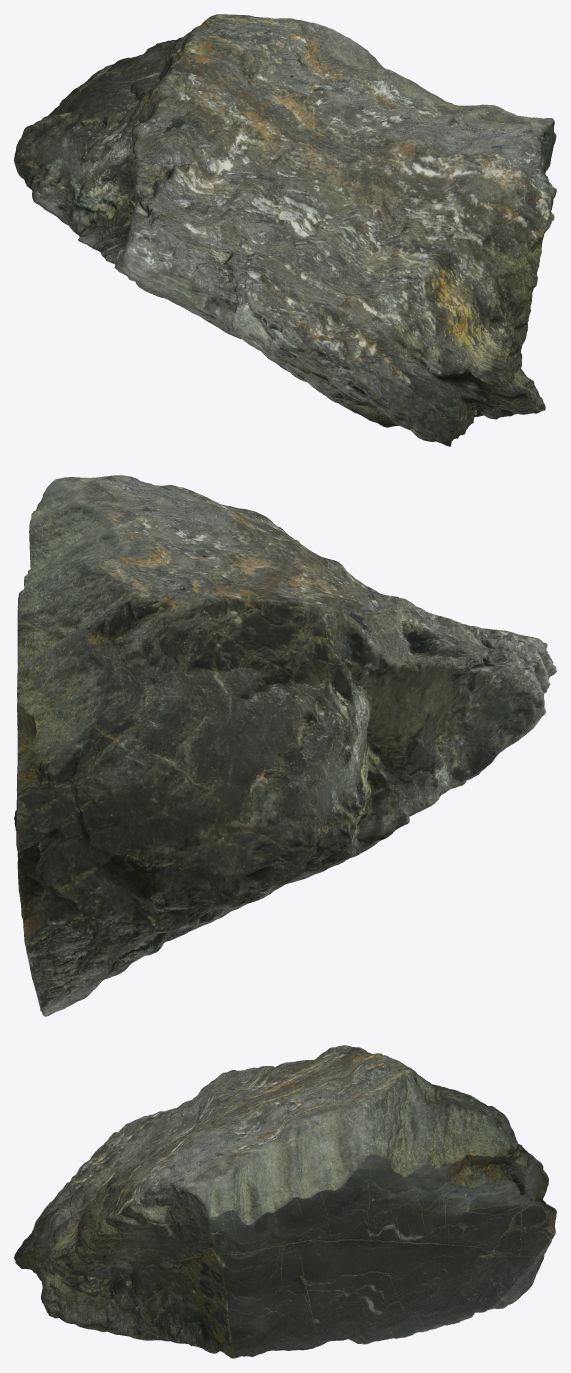
The model's file is sample-02-v2.glb.
3 renders of one model, top to bottom at view 1: azimuth 30°, elevation 25°; view 2: azimuth 150°, elevation 25°; view 3: azimuth 270°, elevation 25°, orthographic. The views are drawn at different scales.
Visible parts, largest first — view 1: Model_material0_0, Model_material5_0, Model_material1_0, Model_material2_0, Model_material3_0, Model_material4_0; view 2: Model_material2_0, Model_material4_0, Model_material3_0, Model_material0_0, Model_material5_0, Model_material1_0; view 3: Model_material3_0, Model_material4_0, Model_material5_0, Model_material0_0, Model_material2_0, Model_material1_0.
Boxes of the visible parts, left/top/right/bottom form: Model_material0_0: left=117, top=21, right=541, bottom=324; Model_material5_0: left=35, top=98, right=556, bottom=445; Model_material1_0: left=123, top=229, right=382, bottom=425; Model_material2_0: left=14, top=37, right=514, bottom=428; Model_material3_0: left=102, top=18, right=556, bottom=427; Model_material4_0: left=19, top=14, right=556, bottom=446; Model_material2_0: left=15, top=507, right=544, bottom=978; Model_material4_0: left=16, top=570, right=317, bottom=1016; Model_material3_0: left=14, top=477, right=295, bottom=1015; Model_material0_0: left=148, top=499, right=518, bottom=733; Model_material5_0: left=16, top=475, right=366, bottom=884; Model_material1_0: left=217, top=630, right=556, bottom=872; Model_material3_0: left=77, top=1070, right=556, bottom=1318; Model_material4_0: left=14, top=1066, right=536, bottom=1358; Model_material5_0: left=14, top=1144, right=543, bottom=1356; Model_material0_0: left=77, top=1045, right=407, bottom=1255; Model_material2_0: left=137, top=1070, right=526, bottom=1326; Model_material1_0: left=57, top=1078, right=216, bottom=1194.
Bounding box in the file's own units: 0.863 × 0.594 × 1.22.
Materials: 6 (6 with a texture image).
